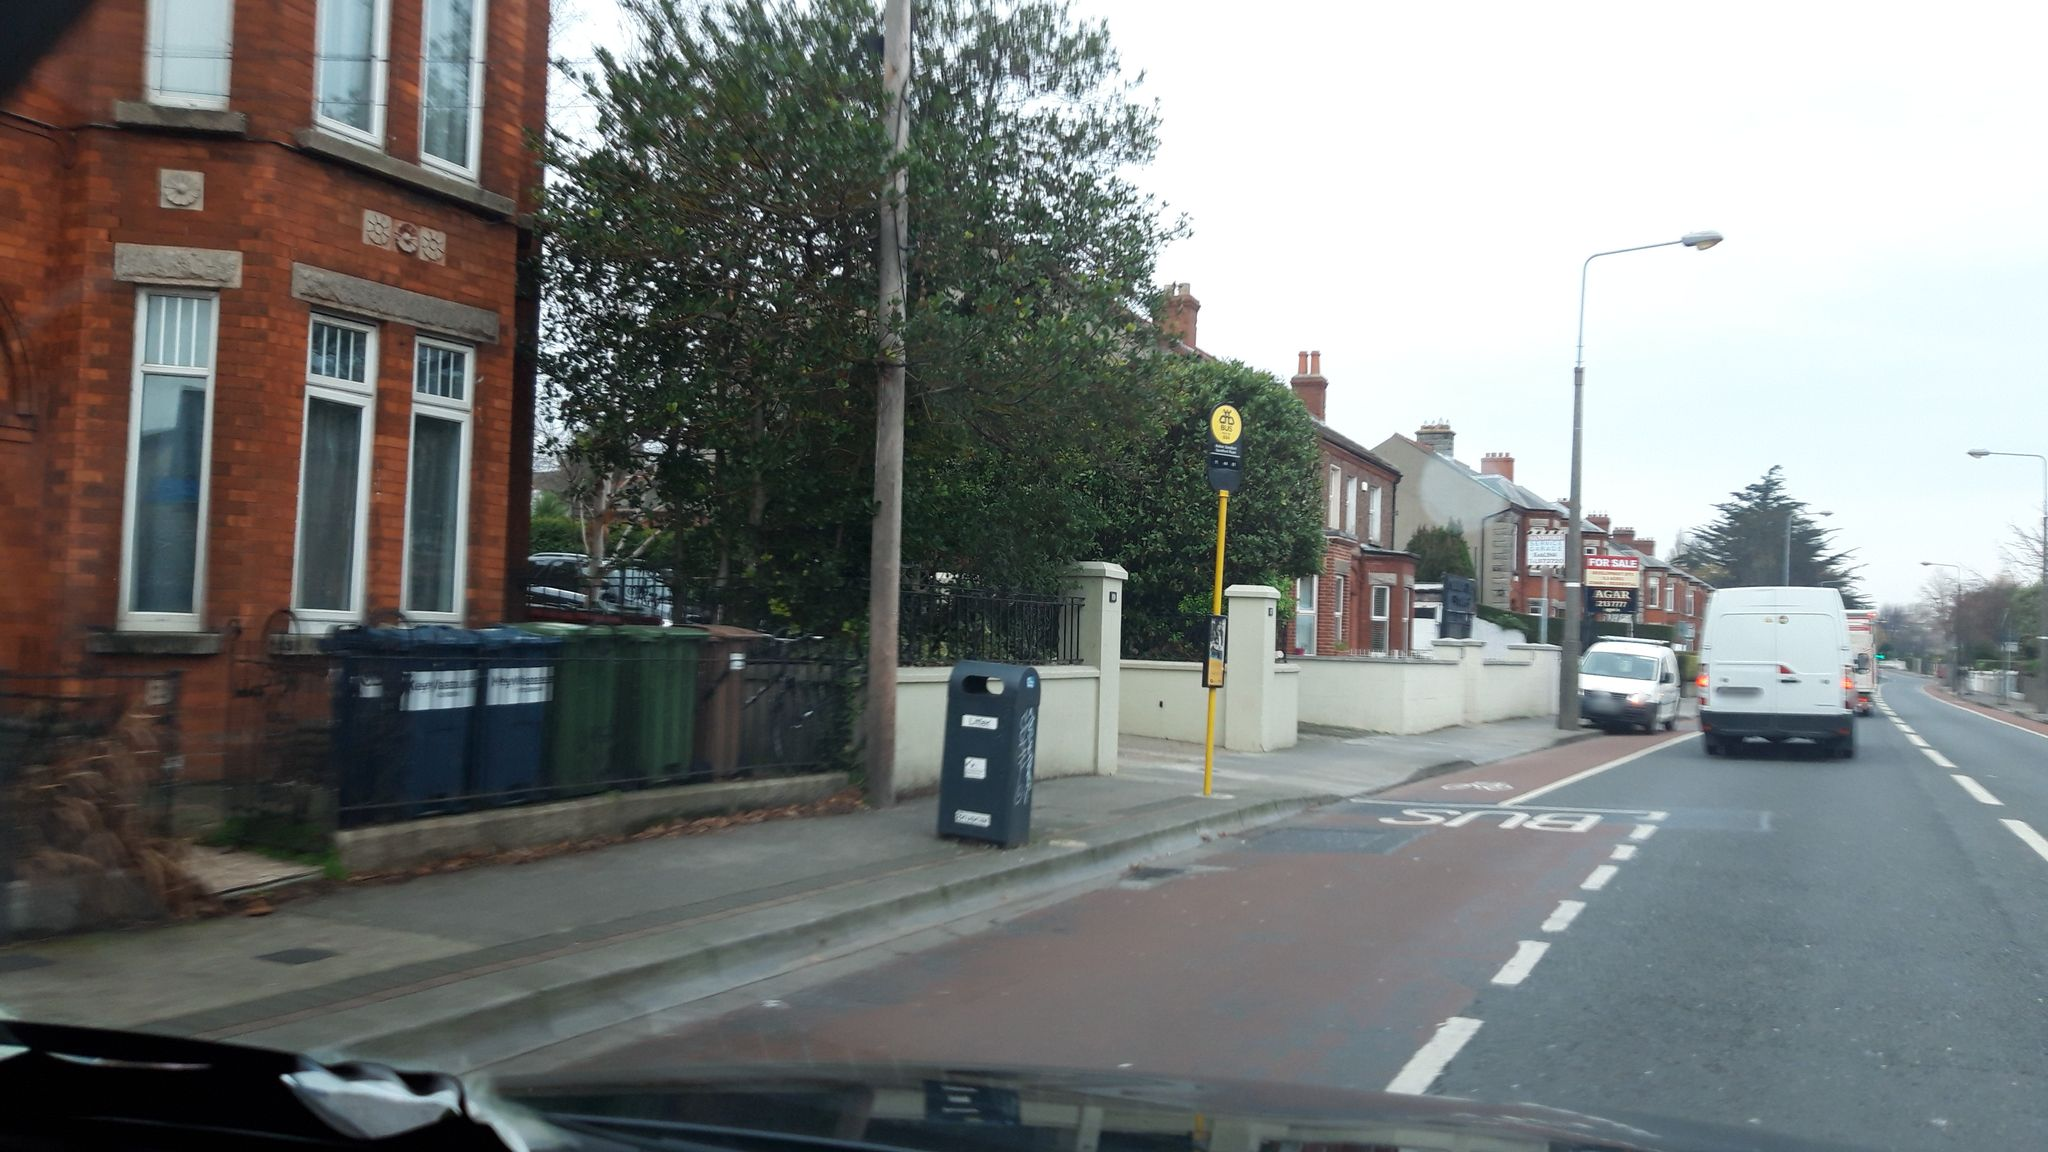property sign: (1575, 544, 1651, 633)
